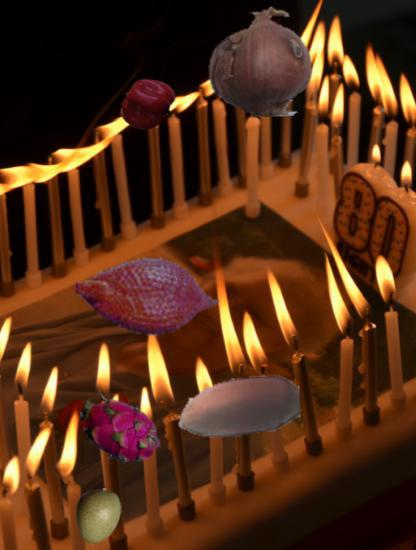Hazelnut: (175, 343, 300, 468)
Onion: (205, 7, 316, 118)
Pear: (69, 488, 129, 548)
Pepper: (120, 76, 177, 133)
Pitahaya: (76, 389, 163, 476)
Salak: (75, 224, 221, 370)
